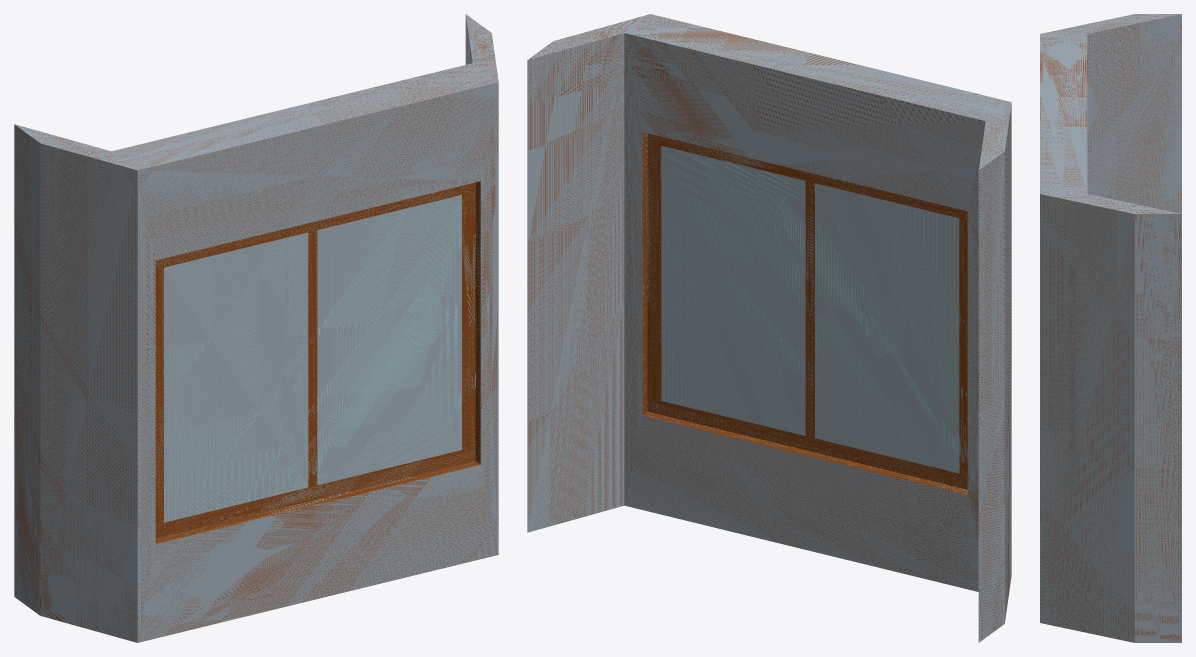
File: window_bay_7.fbx
3 views of the same model, side by side, from view 1: azimuth 30°, elevation 25°; view 2: azimuth 150°, elevation 25°; view 3: azimuth 270°, elevation 25° (orthographic). The views are drawn at different scales.
Parts seen in each view (by area): view 1: Mesh1_window_13_1 Model; view 2: Mesh1_window_13_1 Model; view 3: Mesh1_window_13_1 Model.
Part boxes in pixels (x1=…): Mesh1_window_13_1 Model: x1=14, y1=14, x2=498, y2=642; Mesh1_window_13_1 Model: x1=527, y1=14, x2=1011, y2=642; Mesh1_window_13_1 Model: x1=1040, y1=14, x2=1181, y2=642.
Size of the model in its own units: 1 by 1 by 0.3.
